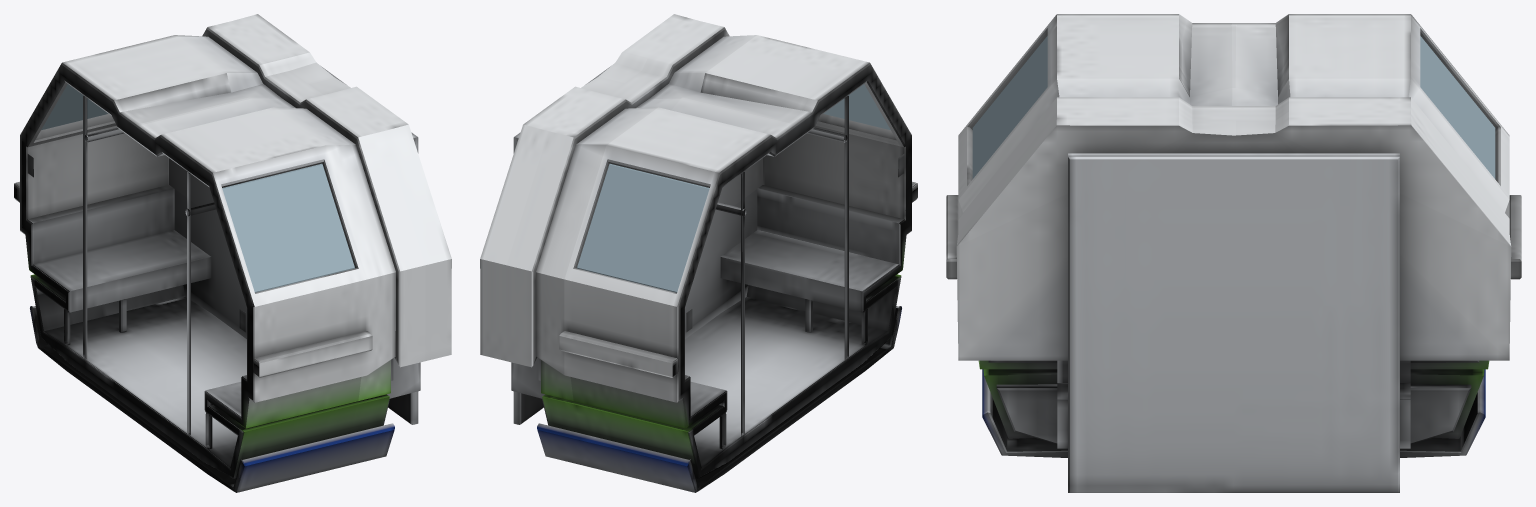
Rendered from train_nose.glb.
3 views of the same model, side by side, from view 1: azimuth 30°, elevation 25°; view 2: azimuth 150°, elevation 25°; view 3: azimuth 270°, elevation 25° (orthographic). The views are drawn at different scales.
Bounding box in the file's own units: 3.64 × 5.03 × 7.3.
Materials: 2 (1 with a texture image).
